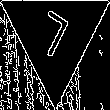L_SW: (33, 7, 77, 66)
